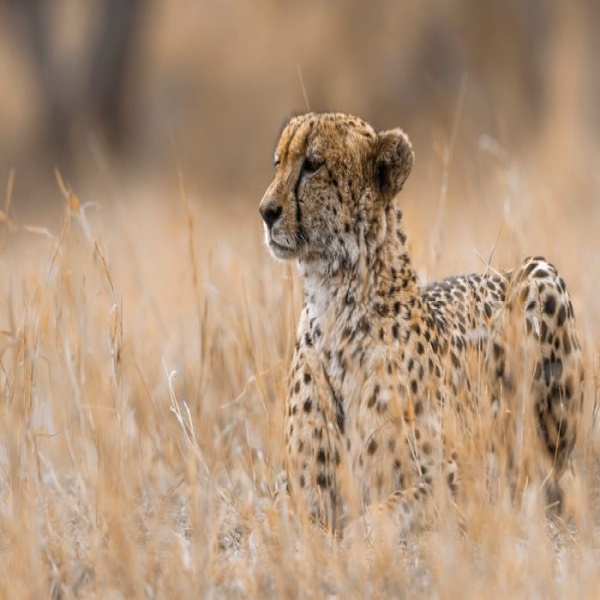Cheetah: (256, 105, 592, 535)
